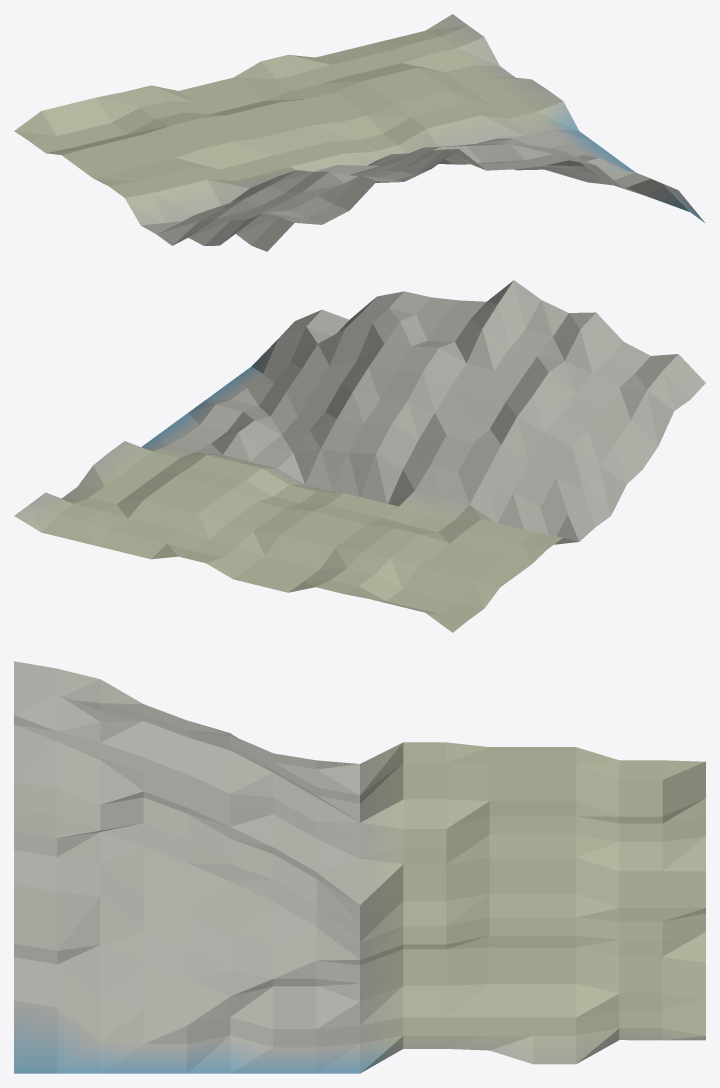
The picture shows the model from 3 angles, top to bottom: view 1: azimuth 30°, elevation 25°; view 2: azimuth 150°, elevation 25°; view 3: azimuth 270°, elevation 25°; orthographic projection. The views are drawn at different scales.
Size of the model in its own units: 32 by 9.41 by 32.
